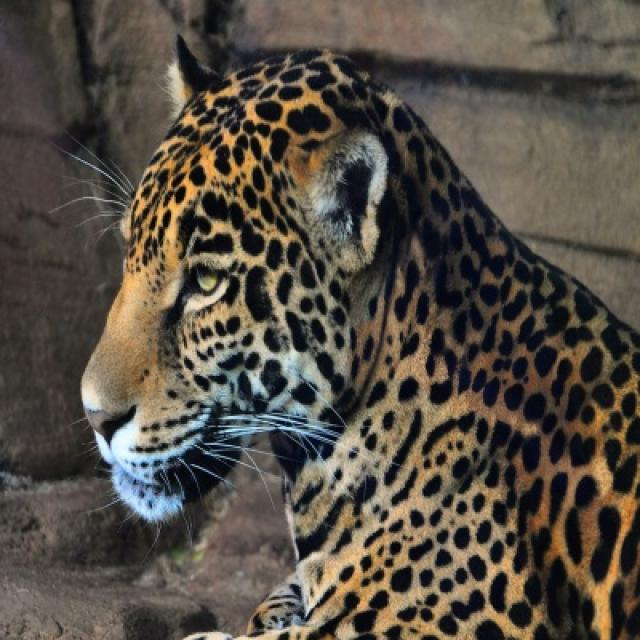Jaguar: (80, 46, 638, 638)
